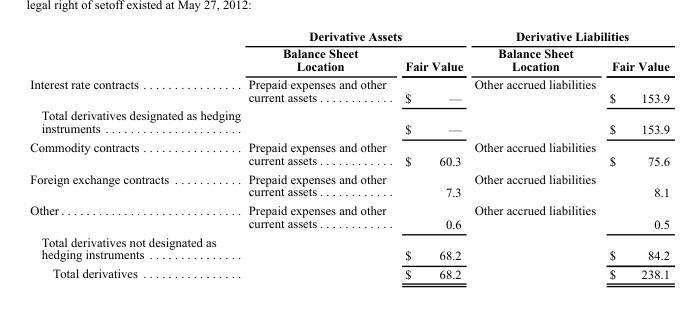table: (29, 28, 668, 281)
table column: (29, 28, 243, 281), (243, 28, 394, 281), (468, 28, 601, 281), (394, 28, 468, 281), (601, 28, 668, 281)
table column header: (29, 28, 668, 106)
table row: (29, 44, 668, 106), (29, 137, 668, 169), (29, 200, 668, 232), (29, 232, 668, 264), (29, 106, 668, 137), (29, 169, 668, 200), (29, 264, 668, 281), (29, 28, 668, 44)
table spanning cell: (29, 28, 243, 106), (243, 28, 468, 44), (468, 28, 668, 44)
